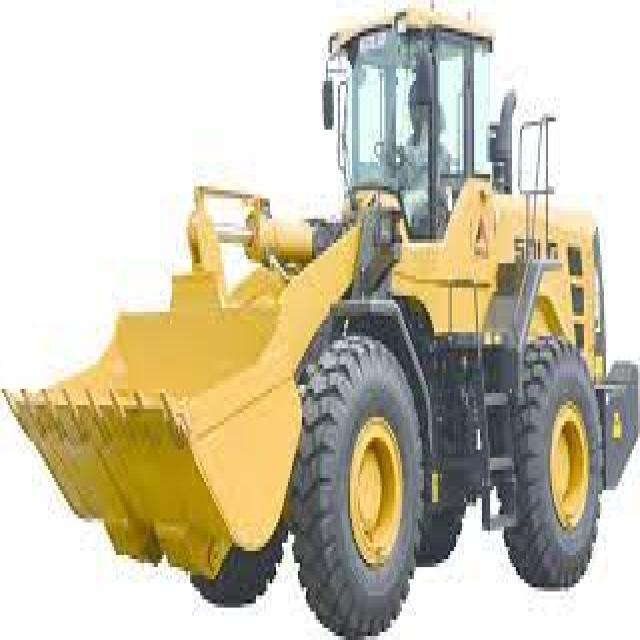buldozerpayloadergrader: (3, 6, 640, 640)
